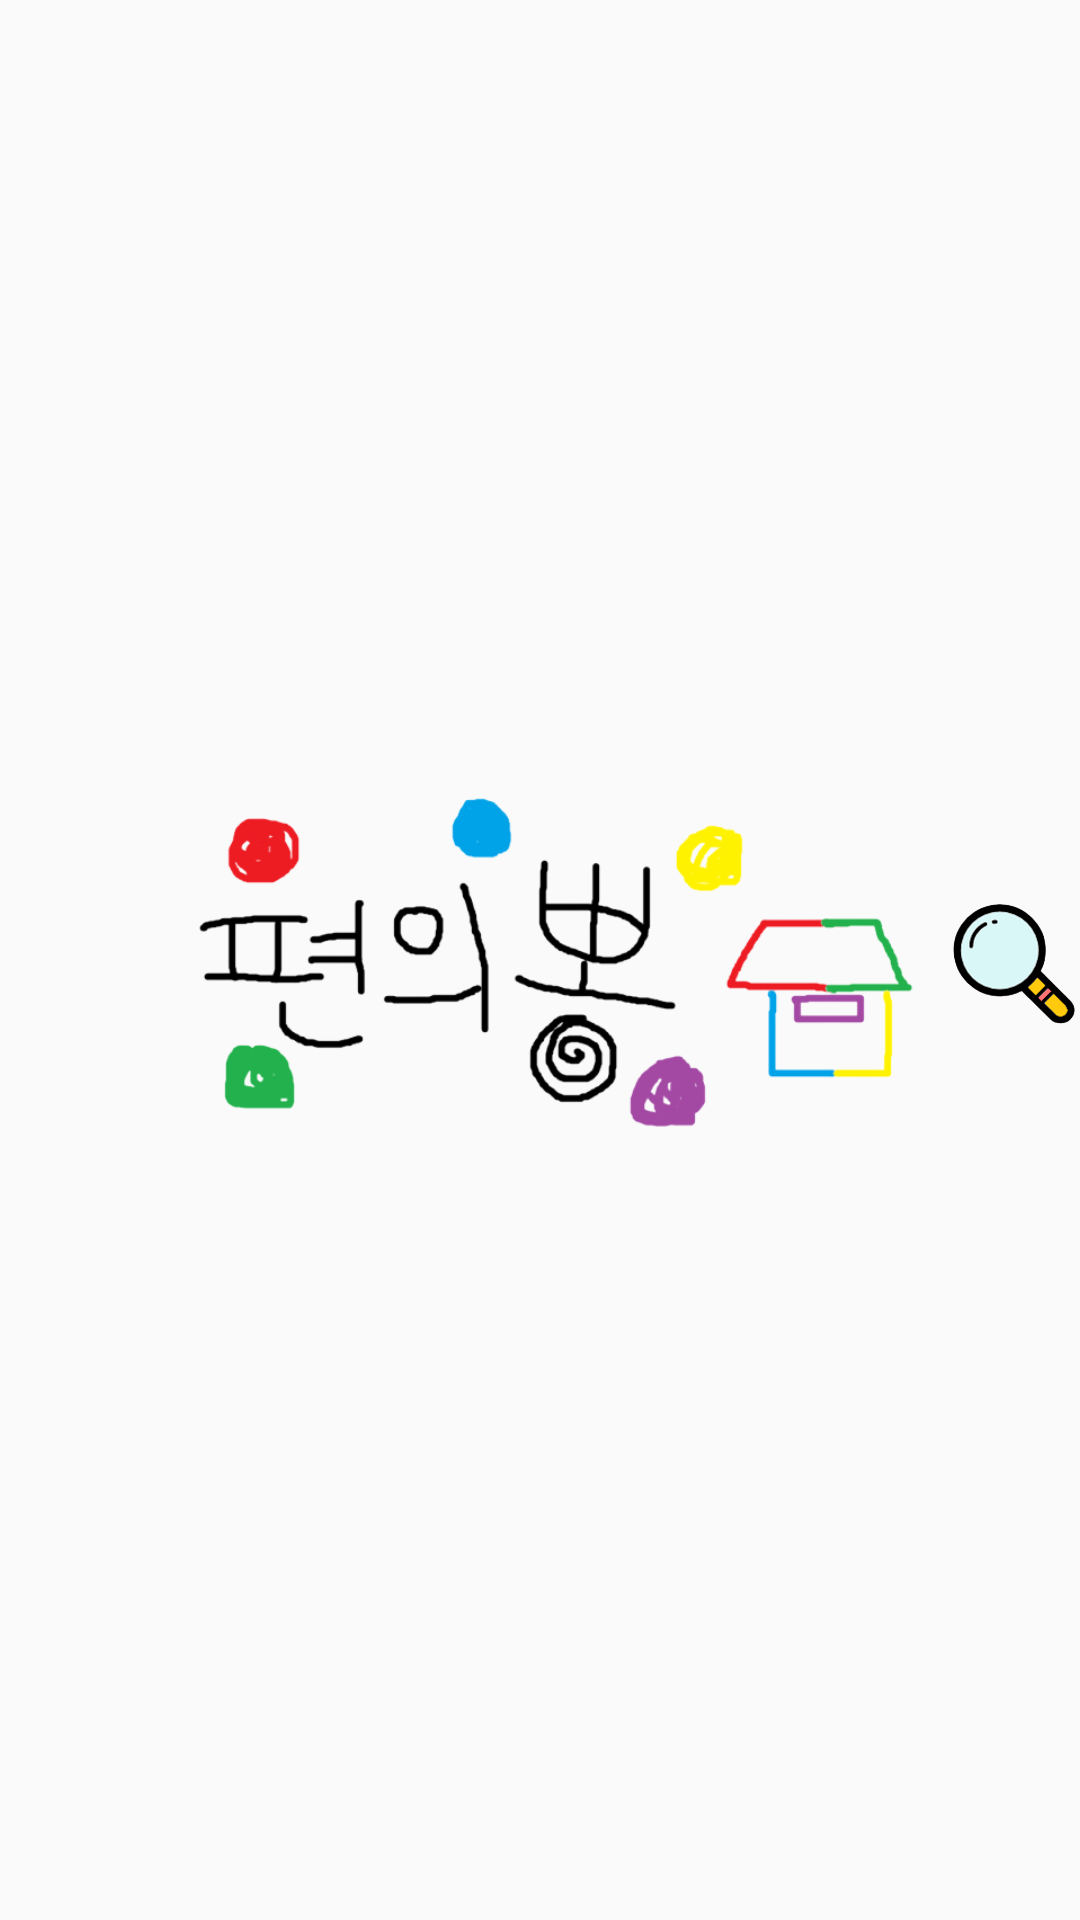

Where to tap for icons on this 1080 x 1920 app screen, as (x=x, y=y):
search: (x=1014, y=964)
